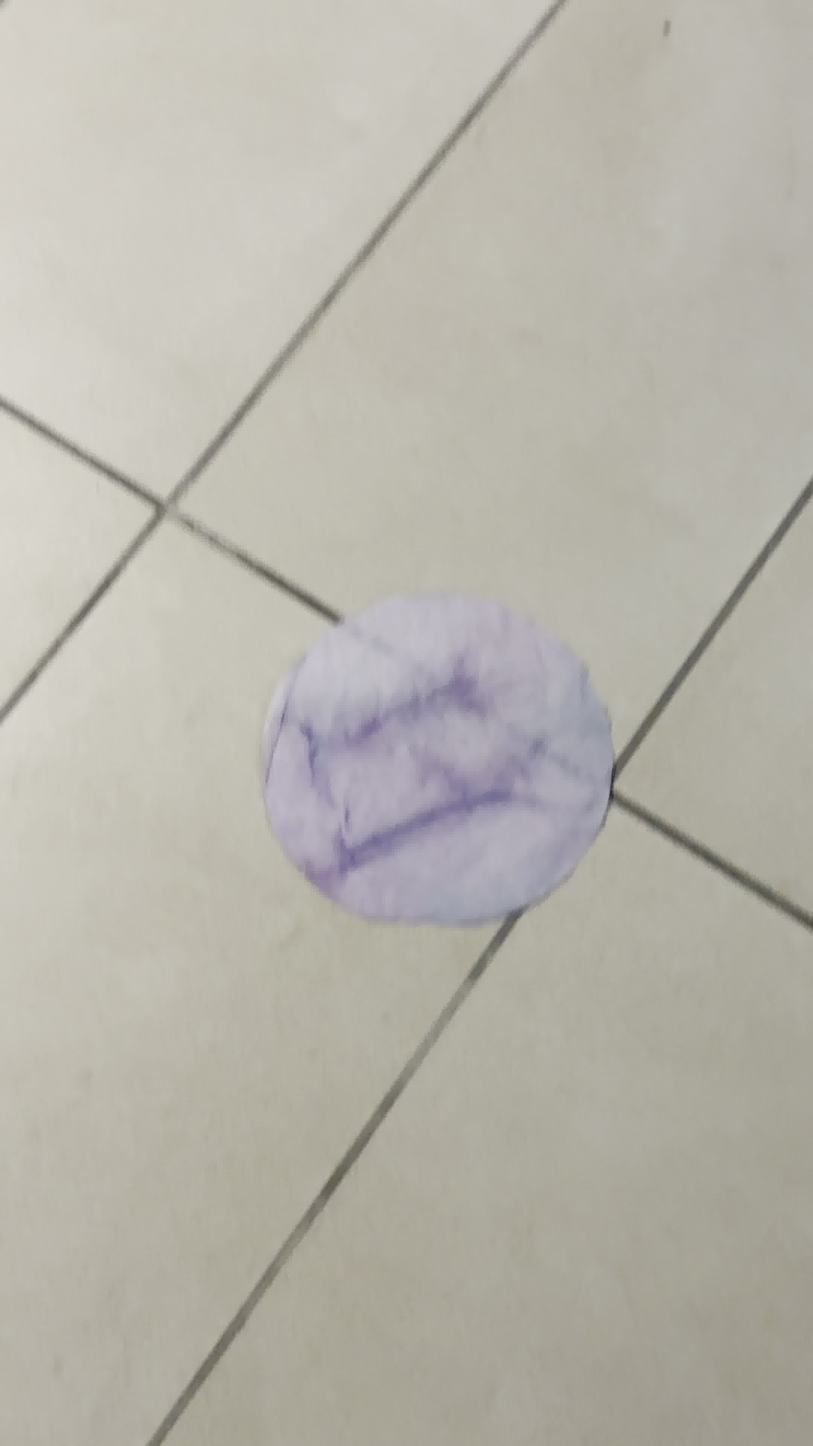Target: (253, 589, 610, 930)
